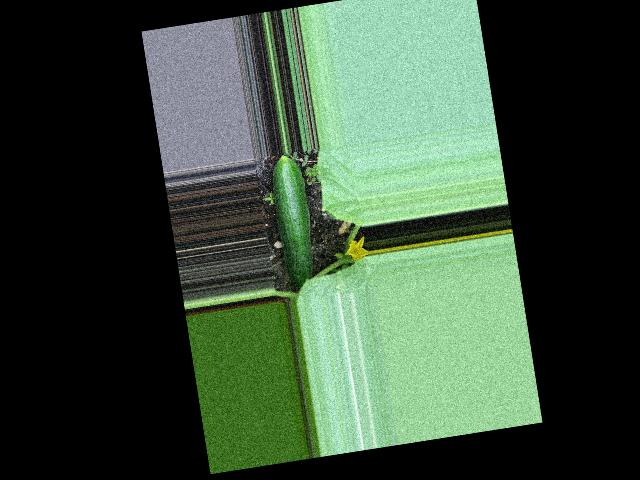cucumber: (266, 152, 320, 289)
